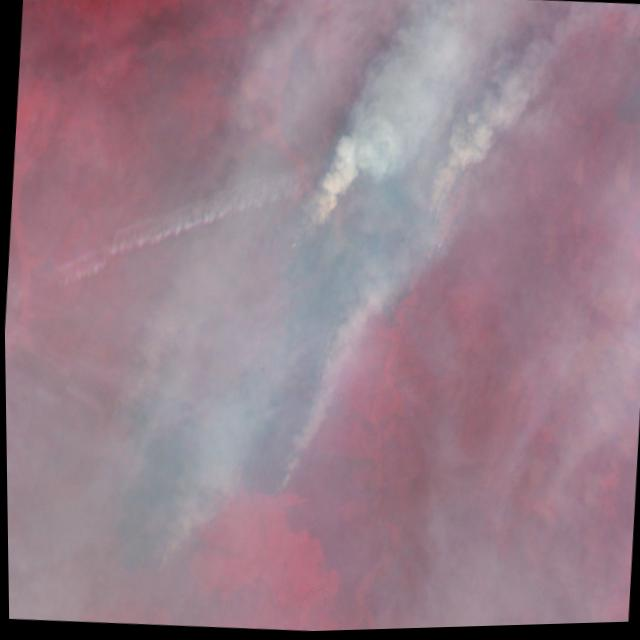fire: (86, 104, 452, 607)
